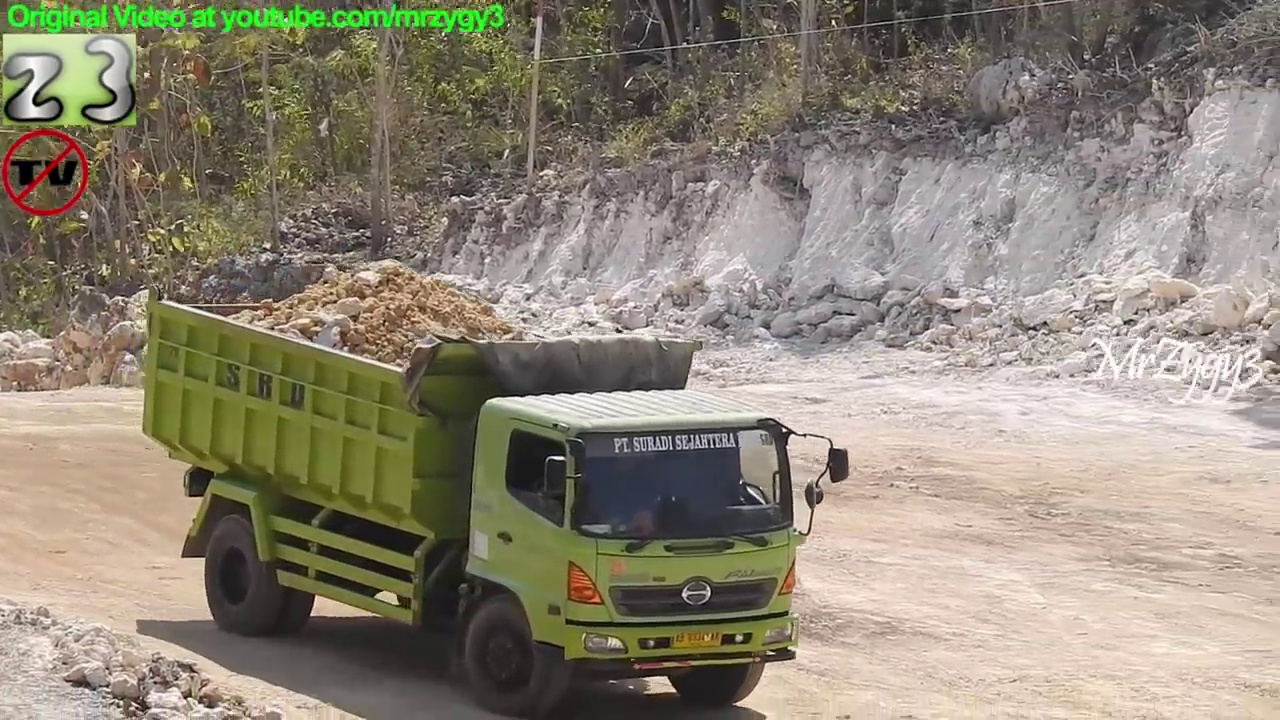truck: (140, 279, 852, 720)
